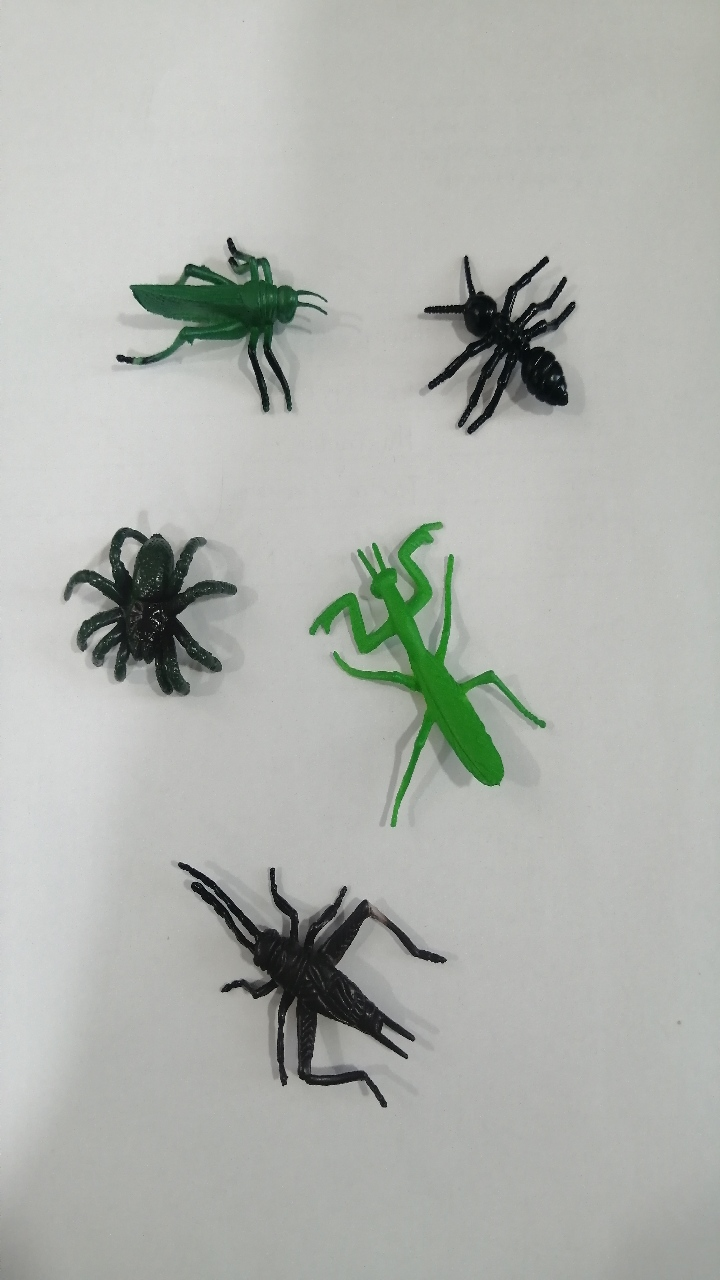intruso: (129, 817, 464, 1160), (288, 494, 571, 860), (83, 203, 331, 432), (37, 479, 244, 751), (378, 205, 592, 462)
